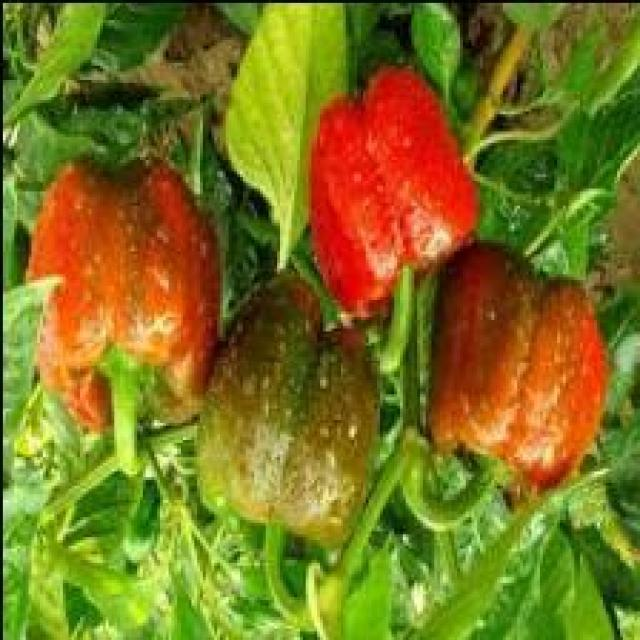Pepper: (26, 168, 214, 437), (426, 243, 609, 494), (197, 277, 377, 529), (311, 69, 480, 320)
